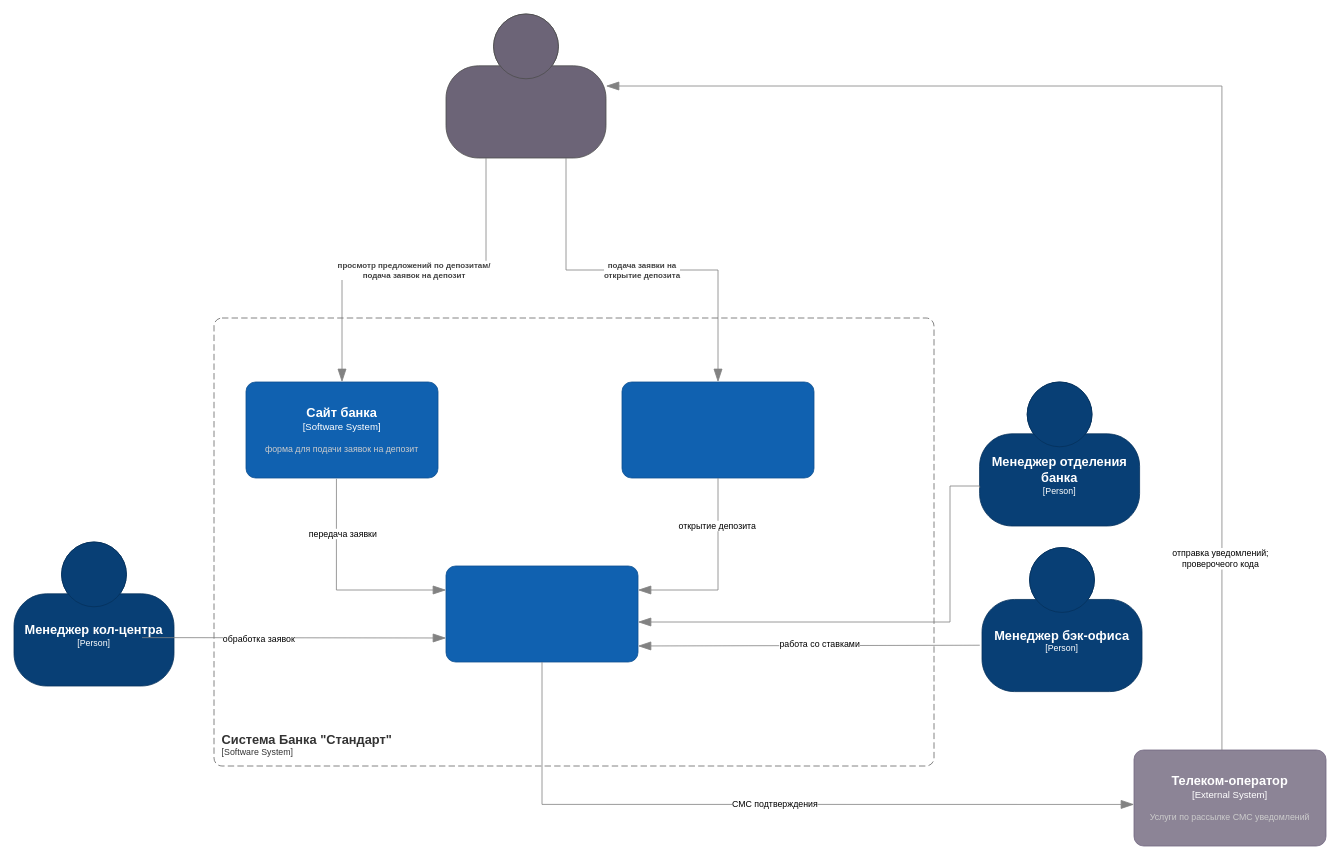
Image size: 1340x860. Some labels were removed from this diagram. Here are the shapes that lost their labels. From the top down, the centre of each, then its label:
At pixel 525 85: "Клиент банка [Person]".
At pixel 717 429: "Интернет-банк [Software System]".
At pixel 541 613: "Система управления депозитами [Software System]".
